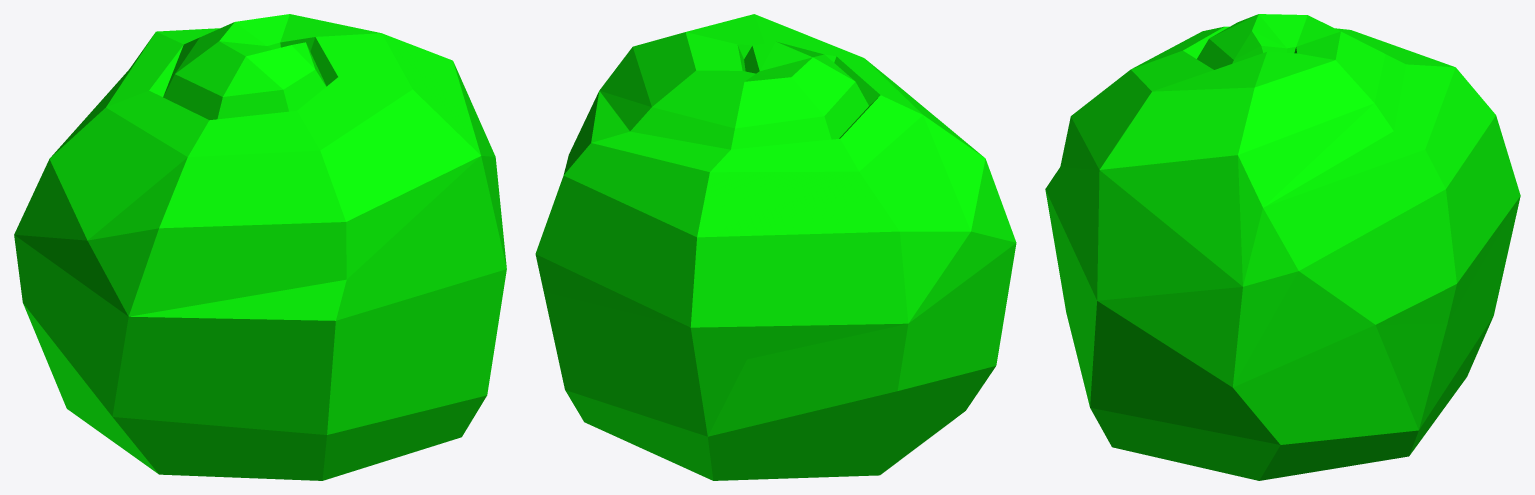
The model's file is SM_Bun_Cinamon_Glaze.fbx.
3 renders of one model, left to right at view 1: azimuth 30°, elevation 25°; view 2: azimuth 150°, elevation 25°; view 3: azimuth 270°, elevation 25°, orthographic. The views are drawn at different scales.
Parts seen in each view (by area): view 1: bun-cinamon-glaze; view 2: bun-cinamon-glaze; view 3: bun-cinamon-glaze.
Boxes of the visible parts, box(x1,y1,x2,y2) form: bun-cinamon-glaze: box(14, 14, 506, 480); bun-cinamon-glaze: box(535, 14, 1016, 480); bun-cinamon-glaze: box(1045, 14, 1520, 480).
Size of the model in its own units: 0.0988 by 0.0838 by 0.0984.
